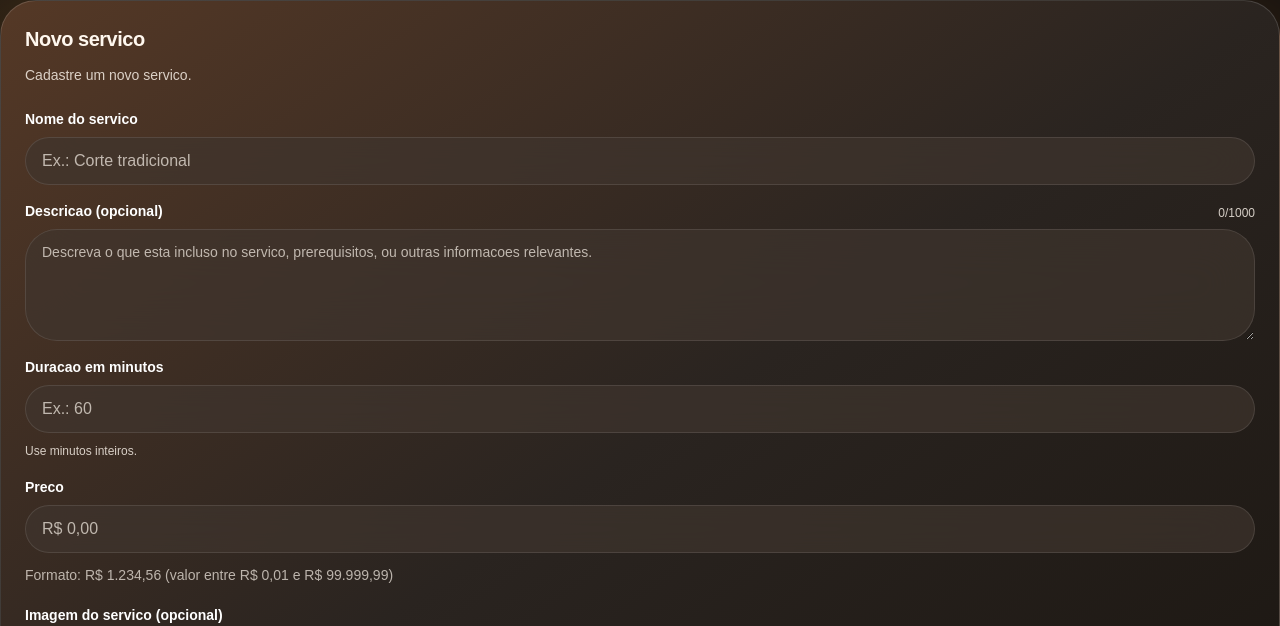
Test: ServiceForm › shows DurationHelper when duration > 960
This screenshot has width=1280, height=626.
Type "1440" into the number field with placeholder "Ex.: 60" at (640, 409), box [25,385,1255,433]
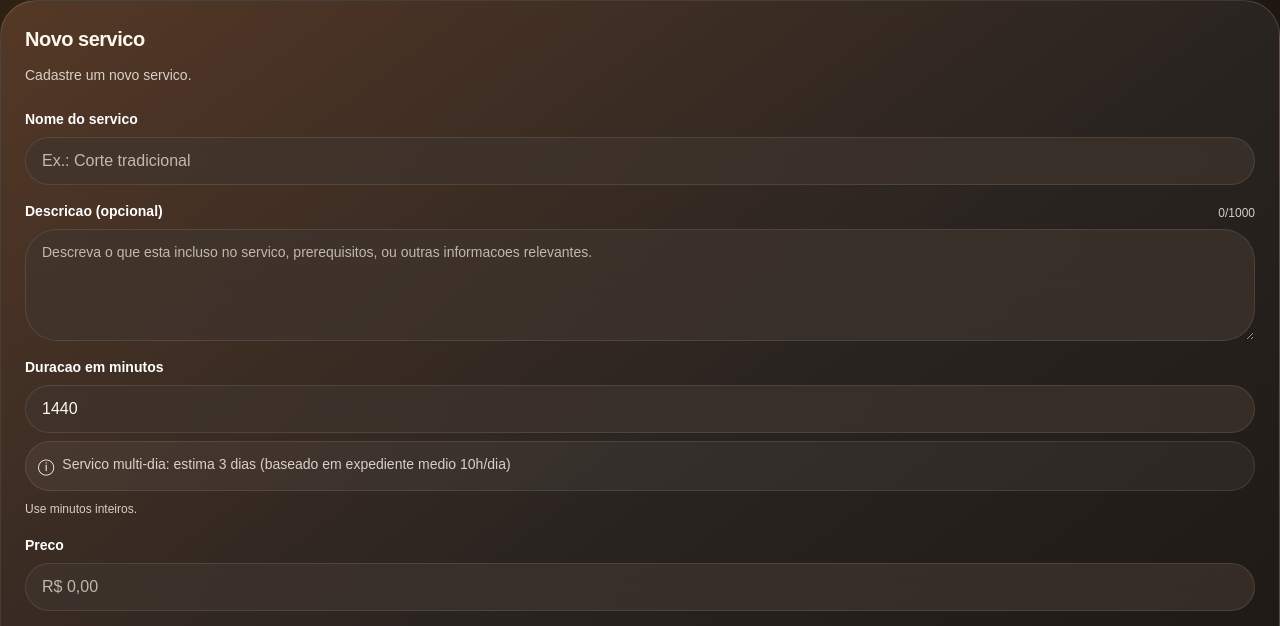
Check: the text "Servico multi-dia" is shown, box [62,456,219,472]
